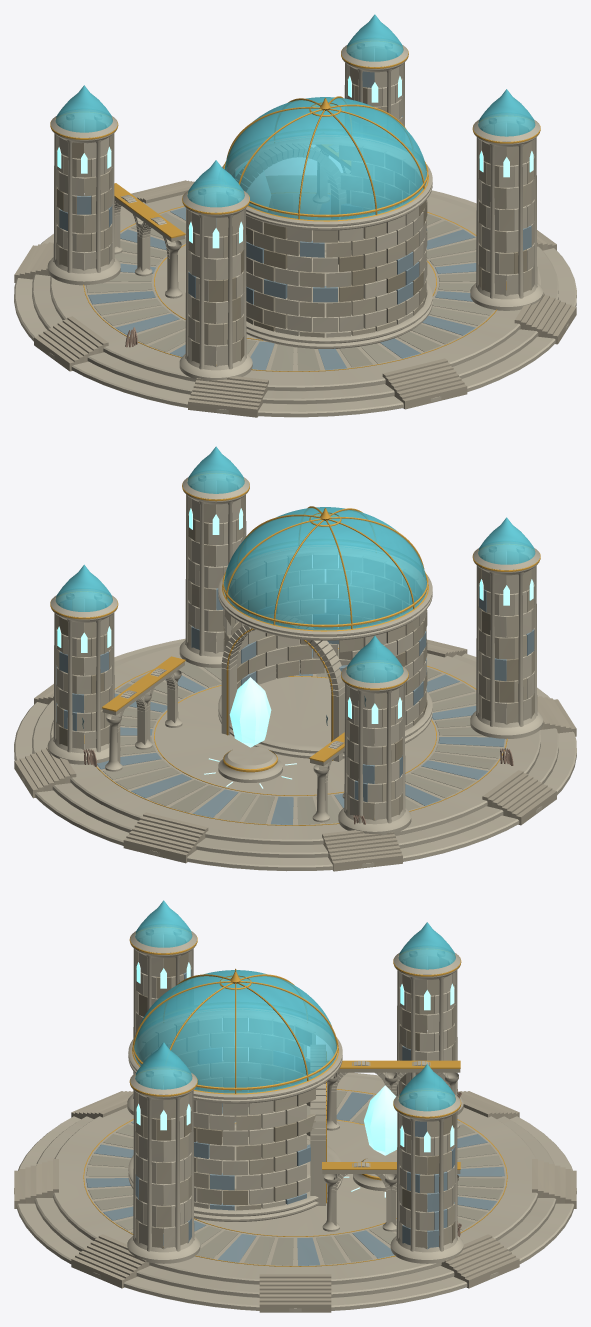
The model's file is atlantida.glb.
3 views of the same model, one above another, from view 1: azimuth 30°, elevation 25°; view 2: azimuth 150°, elevation 25°; view 3: azimuth 270°, elevation 25° (orthographic).
Parts seen in each view (by area): view 1: base, palace, glass, tower_3, tower_2, tower_0, gold, tower_1, colonnade, glow, crystal; view 2: base, palace, glass, tower_2, tower_0, tower_1, tower_3, gold, colonnade, crystal, glow; view 3: base, palace, glass, tower_3, tower_1, tower_0, gold, tower_2, colonnade, crystal, glow.
Part boxes in pixels (x1,y1,x2,y2): base: [14, 176, 576, 417]; palace: [222, 135, 432, 348]; glass: [55, 14, 535, 220]; tower_3: [470, 113, 543, 310]; tower_2: [179, 185, 252, 381]; tower_0: [47, 109, 120, 285]; gold: [50, 41, 540, 371]; tower_1: [341, 39, 408, 126]; colonnade: [114, 145, 350, 298]; glow: [57, 76, 533, 248]; crystal: [236, 160, 270, 210]; base: [14, 636, 576, 871]; palace: [82, 545, 432, 761]; glass: [55, 446, 535, 682]; tower_2: [470, 542, 543, 739]; tower_0: [338, 660, 411, 835]; tower_1: [47, 589, 120, 764]; tower_3: [179, 471, 249, 667]; gold: [50, 473, 540, 825]; colonnade: [102, 662, 344, 822]; crystal: [229, 677, 271, 747]; glow: [57, 508, 533, 788]; base: [14, 1072, 576, 1312]; palace: [128, 1008, 342, 1221]; glass: [134, 900, 455, 1111]; tower_3: [127, 1066, 200, 1263]; tower_1: [390, 1088, 463, 1263]; tower_0: [393, 946, 463, 1114]; gold: [83, 927, 507, 1266]; tower_2: [127, 925, 197, 1114]; colonnade: [322, 1061, 460, 1231]; crystal: [364, 1085, 397, 1155]; glow: [136, 962, 454, 1197].
Bounding box in the file's own units: 94 × 41 × 94.
